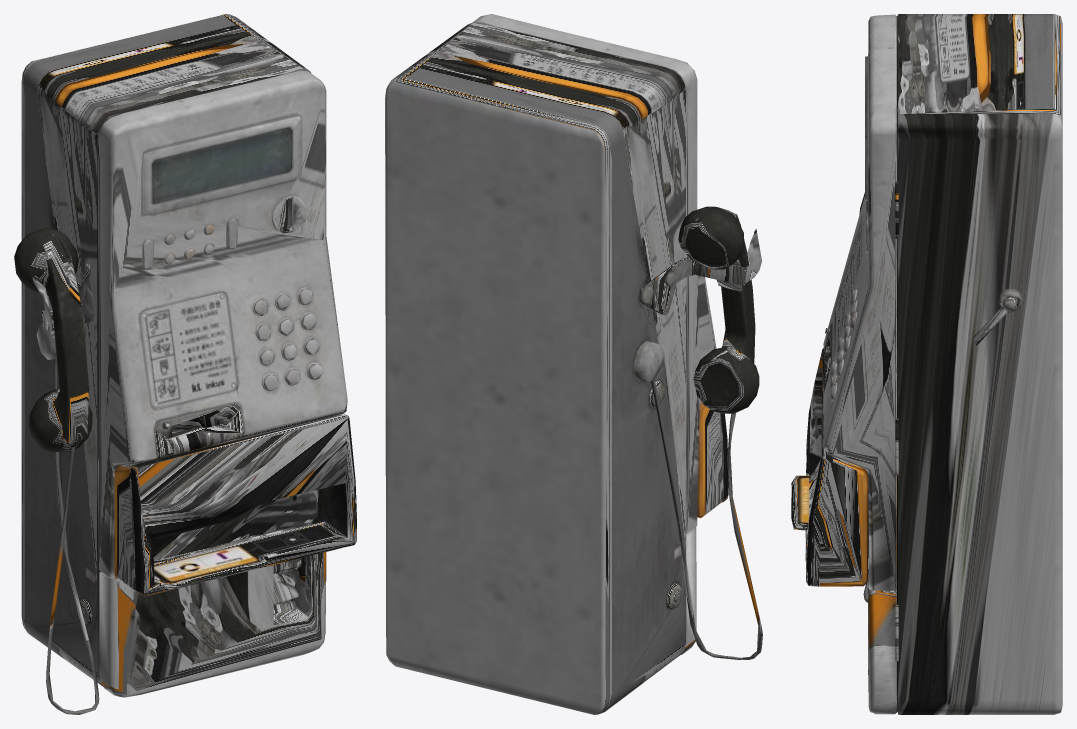
File: korean_public_payphone_01.glb
3 views of the same model, side by side, from view 1: azimuth 30°, elevation 25°; view 2: azimuth 150°, elevation 25°; view 3: azimuth 270°, elevation 25° (orthographic). The views are drawn at different scales.
Visible parts, largest first — view 1: korean_public_payphone_01; view 2: korean_public_payphone_01; view 3: korean_public_payphone_01.
Boxes of the visible parts, bbox=[...] form: korean_public_payphone_01: bbox=[14, 14, 356, 714]; korean_public_payphone_01: bbox=[385, 14, 762, 714]; korean_public_payphone_01: bbox=[791, 14, 1062, 714].
Bounding box in the file's own units: 0.3996 × 0.739 × 0.3004.
Materials: 1 (1 with a texture image).
